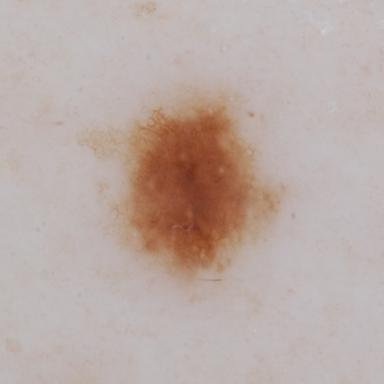nevus: (132, 107, 253, 269)
